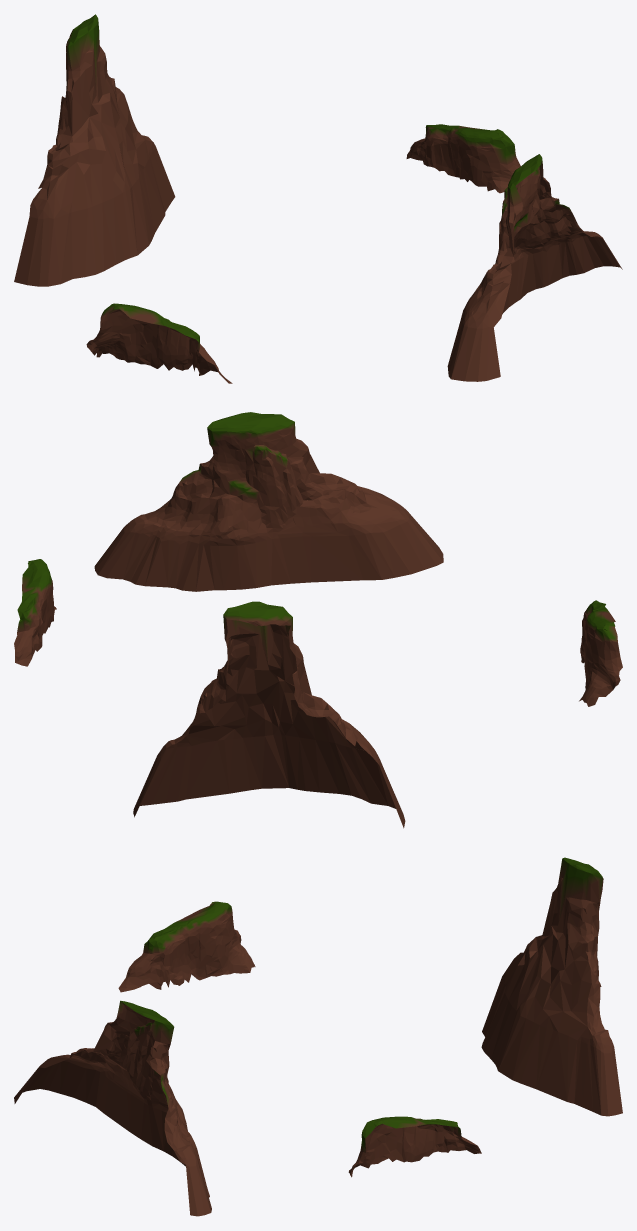
File: ENV_Fishing_Mountains_01.fbx
The picture shows the model from 3 angles, top to bottom: view 1: azimuth 30°, elevation 25°; view 2: azimuth 150°, elevation 25°; view 3: azimuth 270°, elevation 25°; orthographic projection. The views are drawn at different scales.
Visible parts, largest first — view 1: mountains:ENV_Fishing_Mountains_01; view 2: mountains:ENV_Fishing_Mountains_01; view 3: mountains:ENV_Fishing_Mountains_01.
Part boxes in pixels (<box>): mountains:ENV_Fishing_Mountains_01: <box>14,14,622,383</box>; mountains:ENV_Fishing_Mountains_01: <box>14,412,622,828</box>; mountains:ENV_Fishing_Mountains_01: <box>14,857,622,1216</box>.
Bounding box in the file's own units: 16334 × 6346 × 16793.
